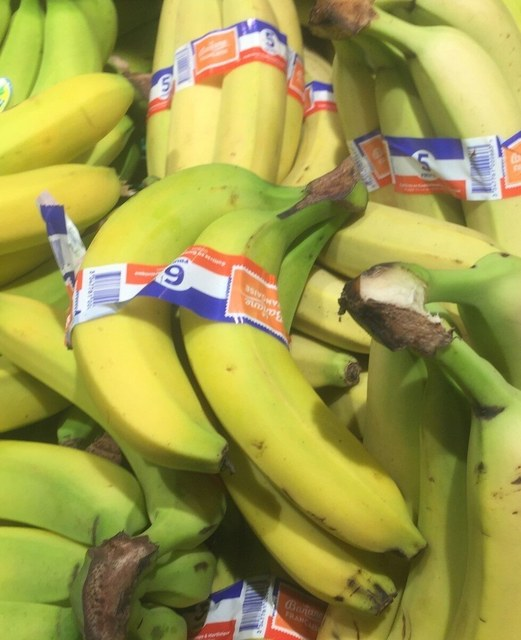Bananes: (26, 32, 495, 608)
